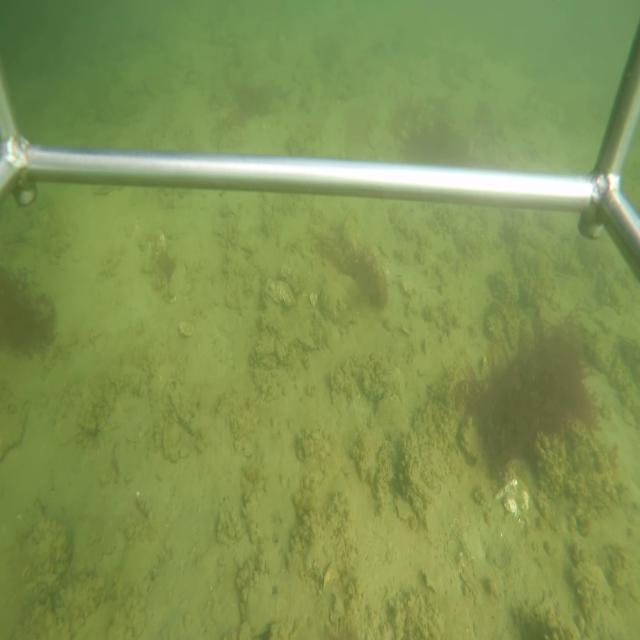Oyster-Closed: (293, 327, 321, 354)
